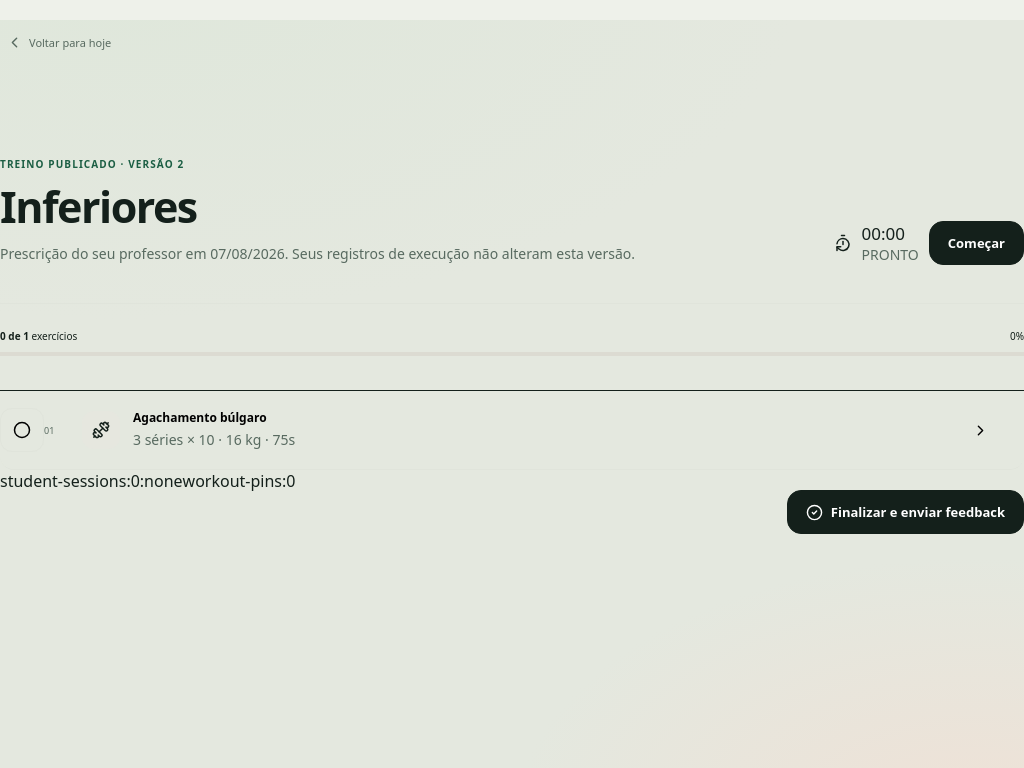
Test: authenticated student workout › reuses the completion key after failure and clears only the successful snapshot
Expected: the text "Agachamento búlgaro" is shown, top-left (133, 409), bottom-right (267, 426)
Click the button "Finalizar e enviar feedback" at (905, 512), box top-left (787, 490), bottom-right (1023, 534)
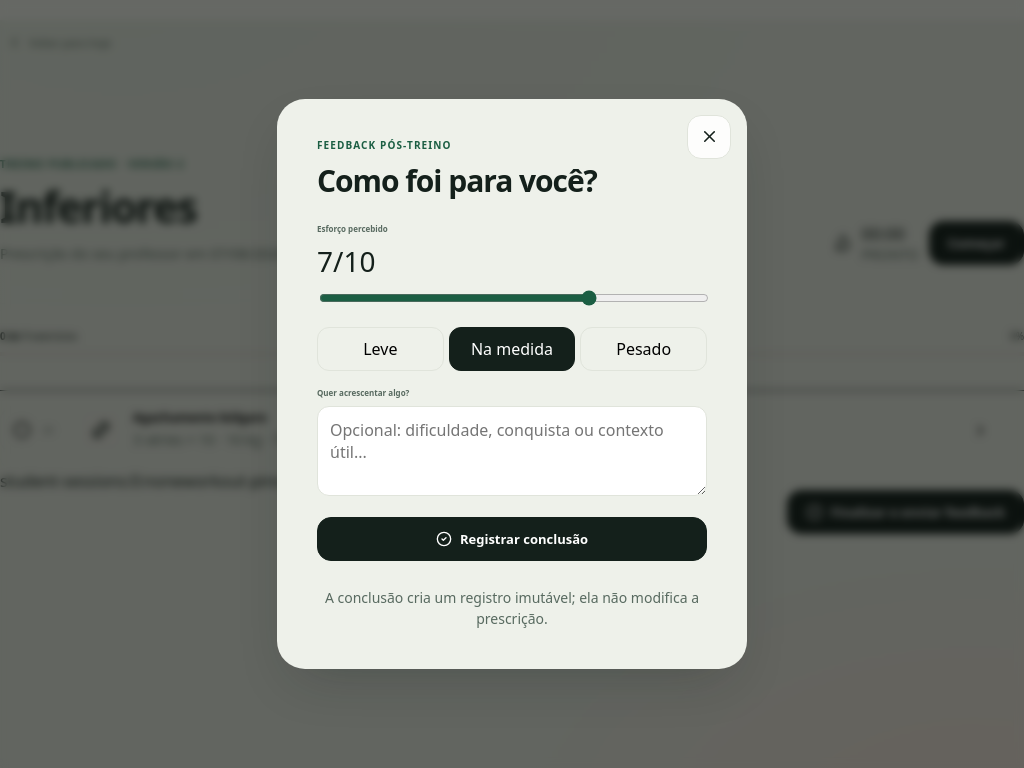
Click the button "Registrar conclusão" at (512, 539), box top-left (317, 517), bottom-right (707, 561)
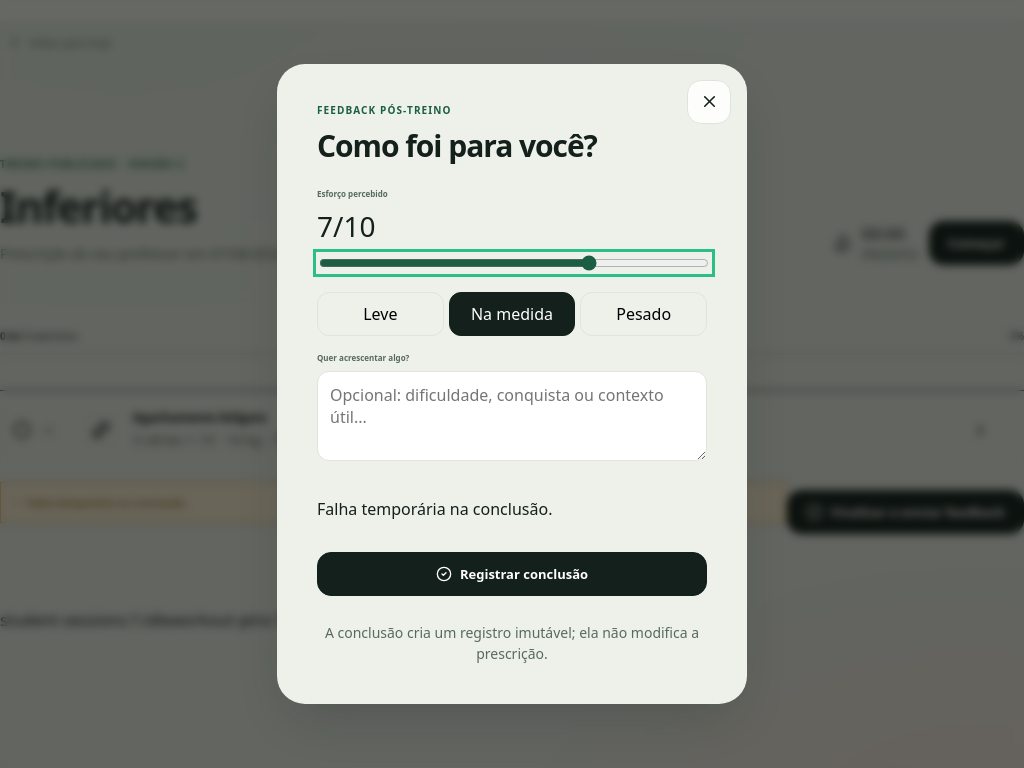
Result: the text "workout-pins:1" is shown at top-left (171, 609), bottom-right (284, 631)
Result: the text "Falha temporária na conclusão." is shown at top-left (317, 498), bottom-right (552, 520)
Result: the text "student-sessions:1:idle" is shown at top-left (0, 609), bottom-right (171, 631)
Click the button "Registrar conclusão" at (512, 574), box top-left (317, 552), bottom-right (707, 596)
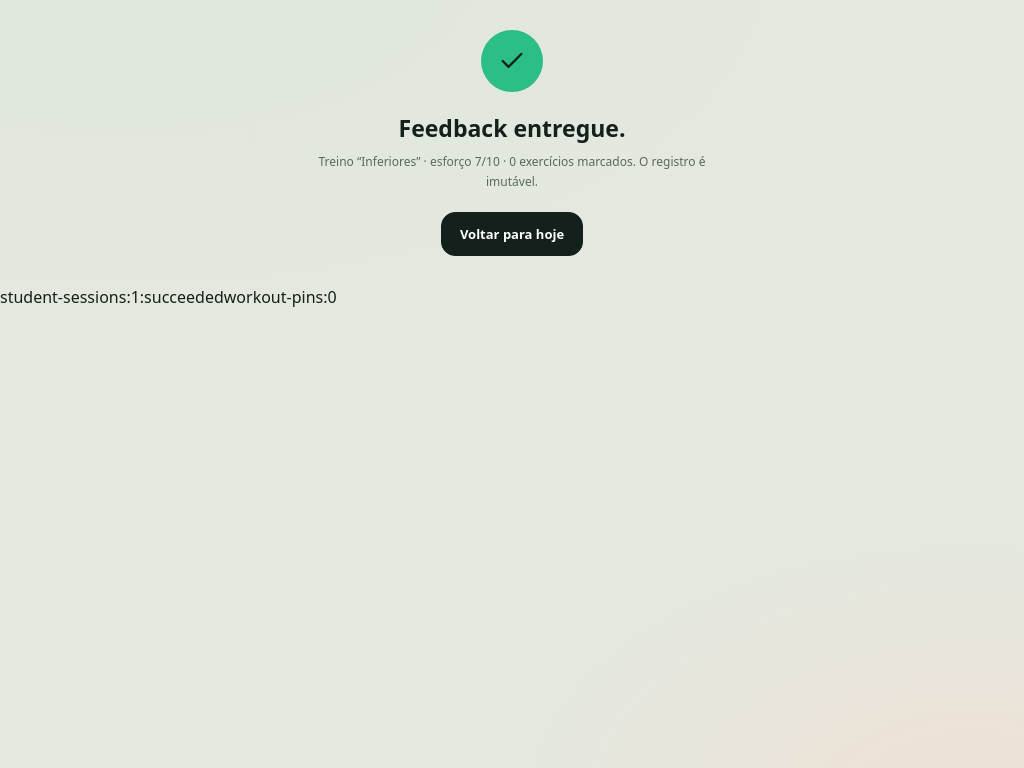
Result: the heading "Feedback entregue." is shown at top-left (398, 112), bottom-right (626, 144)
Result: the text "student-sessions:1:succeeded" is shown at top-left (0, 286), bottom-right (224, 308)
Result: the text "workout-pins:0" is shown at top-left (224, 286), bottom-right (337, 308)
